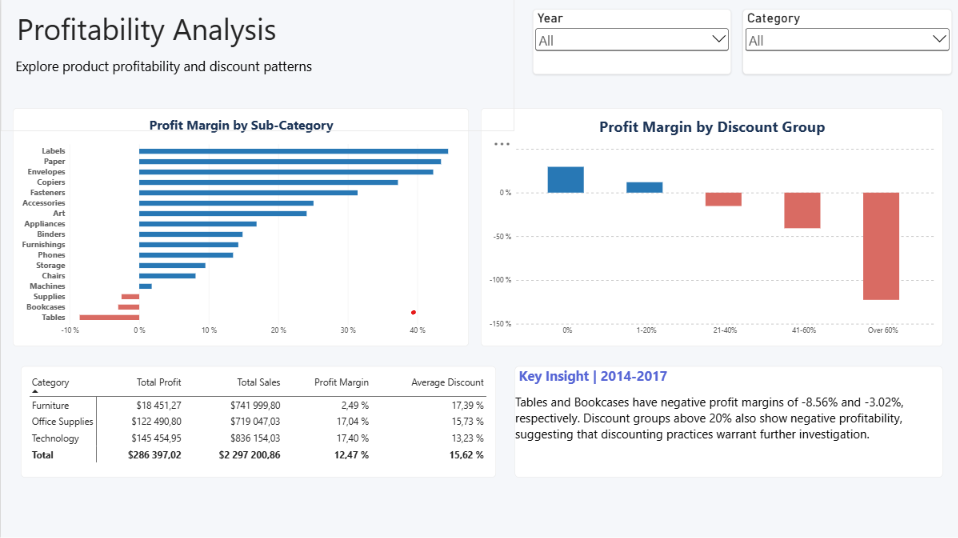

The dashboard page shown, as its layout file describes it:
{"tool":"powerbi","page":{"name":"Profitability Analysis","canvas":[1920,1080],"ordinal":1},"visuals":[{"type":"clusteredBarChart","title":"Profit Margin by Sub-Category","fields":{"Category":["DimProduct.Sub-Category"],"Y":["FactSales.Profit Margin"]},"box":[24,218,912,476],"z":0},{"type":"clusteredColumnChart","title":"Profit Margin by Discount Group","fields":{"Category":["FactSales.Discount Group"],"Y":["FactSales.Profit Margin"]},"box":[960,218,924,476],"z":1000},{"type":"slicer","fields":{"Values":["DimDate.Year"]},"box":[1064.1,19.9,397.1,130],"z":2000},{"type":"slicer","fields":{"Values":["DimProduct.Category"]},"box":[1483.9,19.9,418.3,130],"z":3000},{"type":"textbox","box":[0,0,1028,264],"z":4000},{"type":"pivotTable","fields":{"Rows":["DimProduct.Category"],"Values":["FactSales.Total Profit","FactSales.Total Sales","FactSales.Profit Margin","FactSales.Average Disccount"]},"box":[40,734,950,222],"z":5000},{"type":"textbox","box":[1028,734,856,222],"z":6000}]}

Visuals, with their boxes in screenshot pixels (x1, y1, x2, y2), scaled from the page's 1920x1080 canvas onto the 958x538 screenshot:
"Profit Margin by Sub-Category" clusteredBarChart: 12 109 467 346
"Profit Margin by Discount Group" clusteredColumnChart: 479 109 940 346
slicer - DimDate.Year: 531 10 729 75
slicer - DimProduct.Category: 740 10 949 75
textbox: 0 0 513 132
pivotTable - DimProduct.Category x FactSales.Total Profit: 20 366 494 476
textbox: 513 366 940 476
